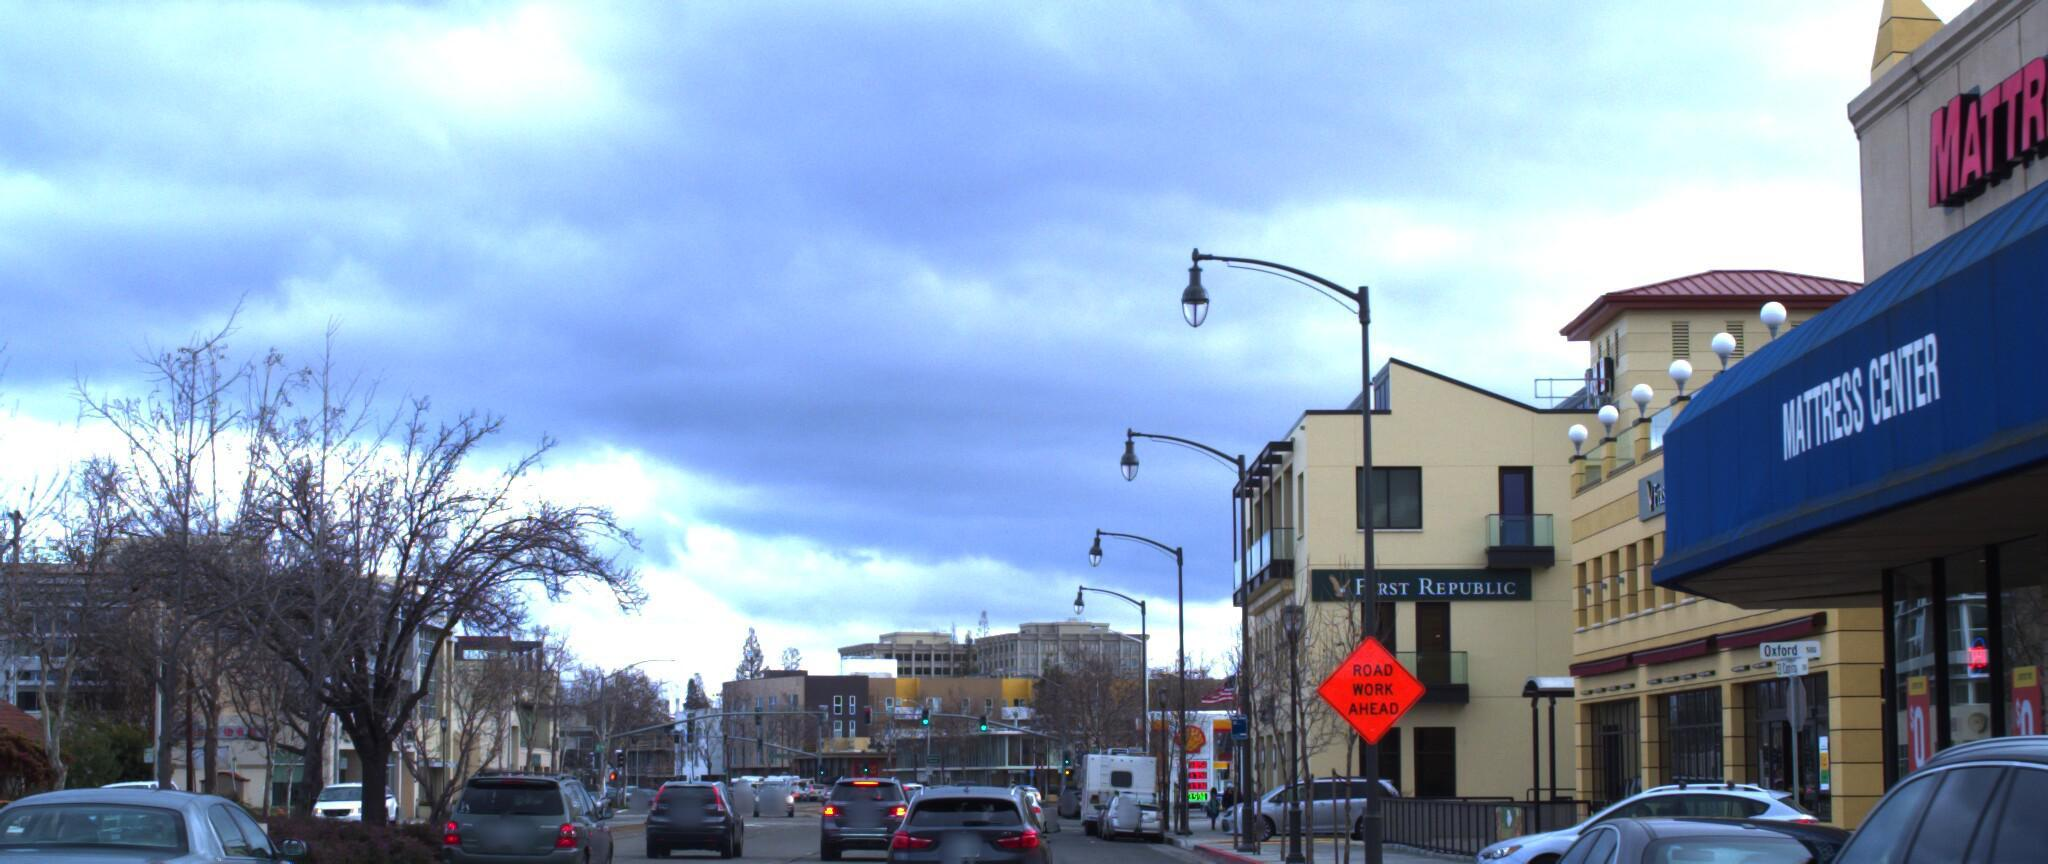car: (1657, 711, 2048, 864), (1447, 771, 2017, 864), (1455, 760, 1818, 864), (0, 778, 349, 864), (434, 762, 614, 864), (880, 769, 1057, 864), (1206, 756, 1394, 824), (637, 754, 737, 841), (812, 761, 906, 848)
